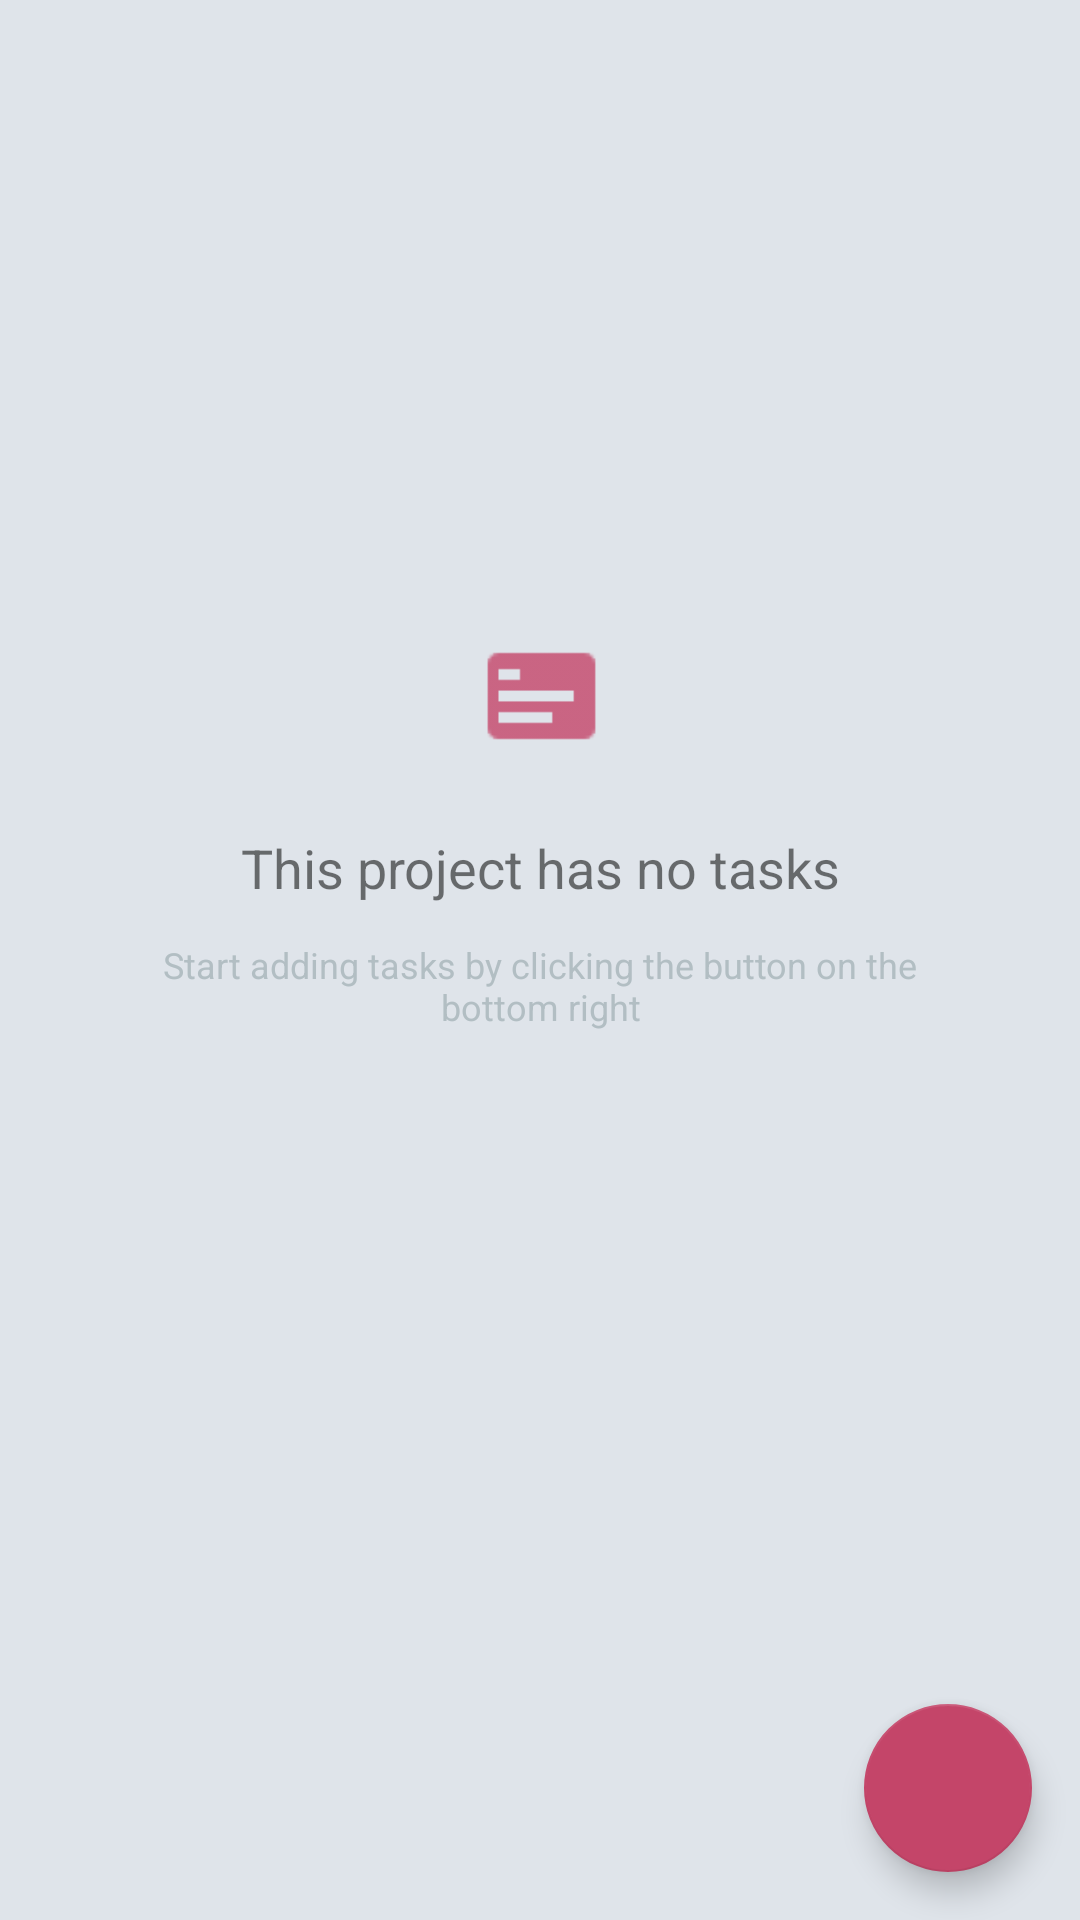

Screen size 1080 × 1920. Icon name, then its box in pixels as (x1, y1, x2, y2):
empty tasks: (487, 652, 596, 740)
